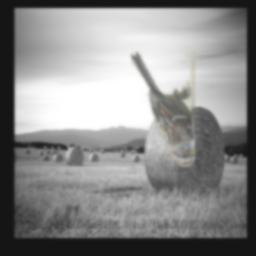Sparrow: (130, 52, 194, 168)
